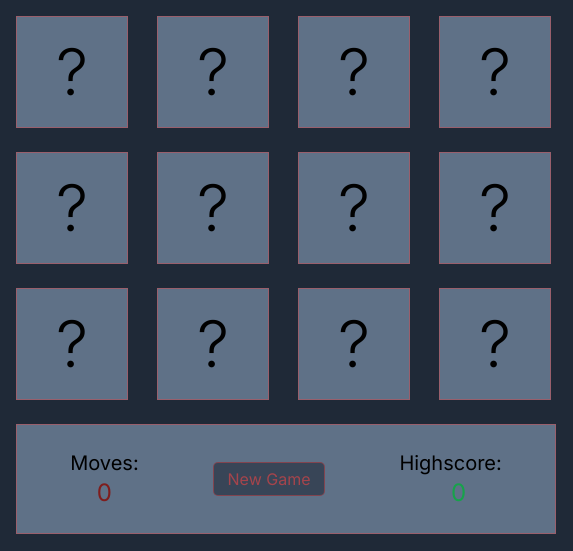
Test: Ensure that New Game button resets the game › Check that cards unflip when clicking New Game button
Click the text with test id "card".
click(72, 72)  # box [16,16,128,128]
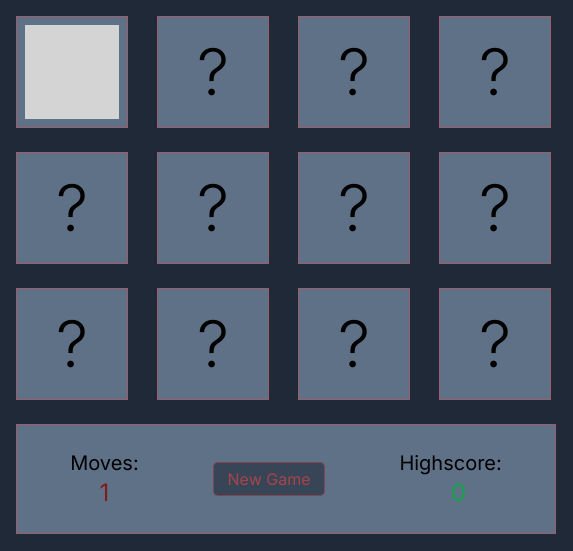
Click the button with test id "new-game-btn".
click(269, 479)  # box [213,462,325,496]
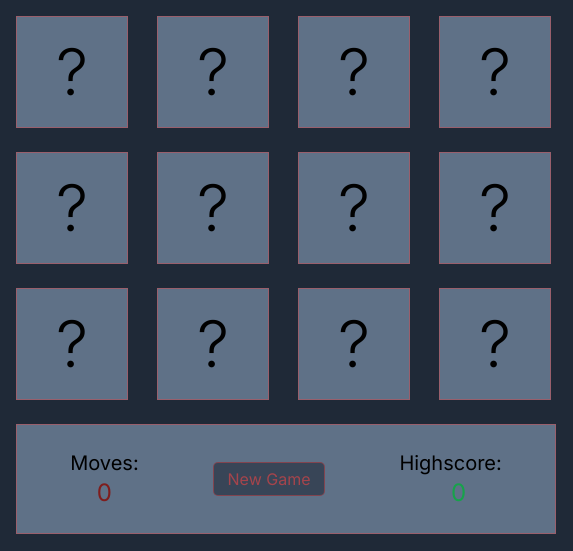
Now no pictures with test id "card-image" are shown
